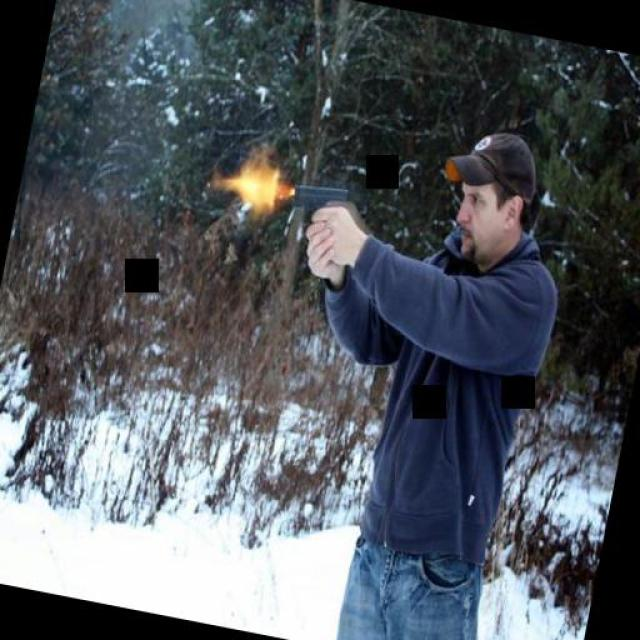gun: (275, 164, 356, 234)
